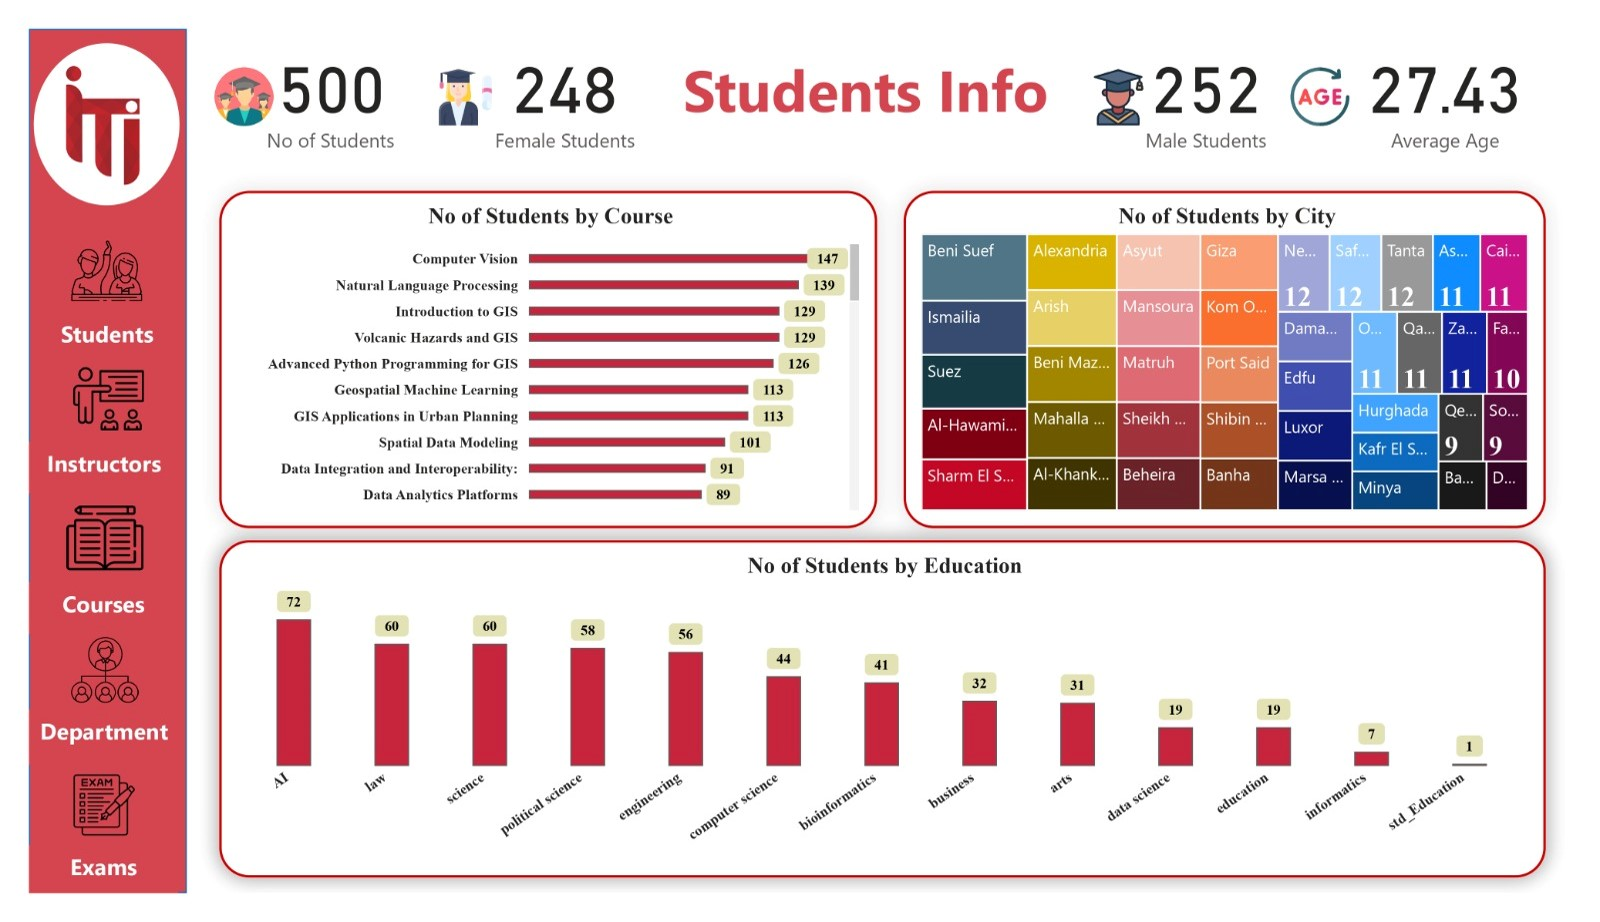

The page's visual inventory and layout, read from the dashboard file:
{"tool":"powerbi","page":{"name":" Students General Info","canvas":[1280,720],"ordinal":3},"visuals":[{"type":"card","fields":{"Values":["Measures (2).No of Students"]},"box":[158.4,0,184.3,109.4],"z":0},{"type":"image","box":[5.8,272.1,119.5,72],"z":0,"group":"g1"},{"type":"card","fields":{"Values":["Measures (2).MaleStudent"]},"box":[882.7,0,188.6,109.4],"z":1000},{"type":"image","box":[4.3,167,121,69.1],"z":1000,"group":"g1"},{"type":"card","fields":{"Values":["Measures (2).FemaleStudent"]},"box":[345.6,0,198.7,109.4],"z":2000},{"type":"textbox","box":[10.1,236.1,109.4,36],"z":2000,"group":"g1"},{"type":"card","fields":{"Values":["Measures (2).AverageAge"]},"box":[1071.4,0,208.8,109.4],"z":3000},{"type":"textbox","box":[0,344.1,125.3,43.2],"z":3000,"group":"g1"},{"type":"textbox","box":[524.2,11.5,341.3,97.9],"z":4000},{"type":"image","box":[0,387.3,125.3,73.4],"z":4000,"group":"g1"},{"type":"shape","box":[0,0,131,720],"z":5000},{"type":"image","box":[0,613.4,125.3,66.2],"z":5000,"group":"g1"},{"type":"textbox","box":[0,460.8,123.8,43.2],"z":6000,"group":"g1"},{"type":"textbox","box":[0,679.6,123.8,40.3],"z":7000,"group":"g1"},{"type":"image","box":[0,501.1,125.3,66.2],"z":8000,"group":"g1"},{"type":"textbox","box":[0,567.3,125.3,46.1],"z":9000,"group":"g1"},{"type":"shape","box":[4.3,11.5,121,135.4],"z":10000},{"type":"image","box":[0,11.5,125.3,123.8],"z":11000},{"type":"treemap","title":"No of Students by City","fields":{"Group":["Fact_student.std_Address"],"Values":["Measures (2).No of Students"]},"box":[725.8,135.4,532.8,280.8],"z":12000},{"type":"clusteredColumnChart","title":"No of Students by Education","fields":{"Category":["Fact_student.std_Education"],"Y":["Measures (2).No of Students"]},"box":[158.4,426.2,1100.2,280.8],"z":13000},{"type":"image","box":[865.4,25.9,77.8,61.9],"z":14000},{"type":"image","box":[321.1,25.9,80.6,61.9],"z":15000},{"type":"image","box":[1038.2,27.4,66.2,59],"z":16000},{"type":"image","box":[144,27.4,67.7,59],"z":17000},{"type":"clusteredBarChart","title":"No of Students by Course","fields":{"Y":["Measures (2).No of Students"],"Category":["Dim_courses.CourseName"]},"box":[158.4,135.4,545.8,280.8],"z":18000},{"type":"group","id":"g1","title":"Group 1","box":[0,167,125.3,553],"z":19000}]}

Visuals, with their boxes in screenshot pixels (x1, y1, x2, y2), scaled from the page's 1280x720 canvas onto the 1600x922 screenshot:
card - Measures (2).No of Students: (x1=198, y1=0, x2=428, y2=140)
image: (x1=7, y1=348, x2=157, y2=441)
card - Measures (2).MaleStudent: (x1=1103, y1=0, x2=1339, y2=140)
image: (x1=5, y1=214, x2=157, y2=302)
card - Measures (2).FemaleStudent: (x1=432, y1=0, x2=680, y2=140)
textbox: (x1=13, y1=302, x2=149, y2=348)
card - Measures (2).AverageAge: (x1=1339, y1=0, x2=1599, y2=140)
textbox: (x1=0, y1=441, x2=157, y2=496)
textbox: (x1=655, y1=15, x2=1082, y2=140)
image: (x1=0, y1=496, x2=157, y2=590)
shape: (x1=0, y1=0, x2=164, y2=921)
image: (x1=0, y1=785, x2=157, y2=870)
textbox: (x1=0, y1=590, x2=155, y2=645)
textbox: (x1=0, y1=870, x2=155, y2=921)
image: (x1=0, y1=642, x2=157, y2=726)
textbox: (x1=0, y1=726, x2=157, y2=785)
shape: (x1=5, y1=15, x2=157, y2=188)
image: (x1=0, y1=15, x2=157, y2=173)
"No of Students by City" treemap: (x1=907, y1=173, x2=1573, y2=533)
"No of Students by Education" clusteredColumnChart: (x1=198, y1=546, x2=1573, y2=905)
image: (x1=1082, y1=33, x2=1179, y2=112)
image: (x1=401, y1=33, x2=502, y2=112)
image: (x1=1298, y1=35, x2=1380, y2=111)
image: (x1=180, y1=35, x2=265, y2=111)
"No of Students by Course" clusteredBarChart: (x1=198, y1=173, x2=880, y2=533)
"Group 1" group: (x1=0, y1=214, x2=157, y2=921)
